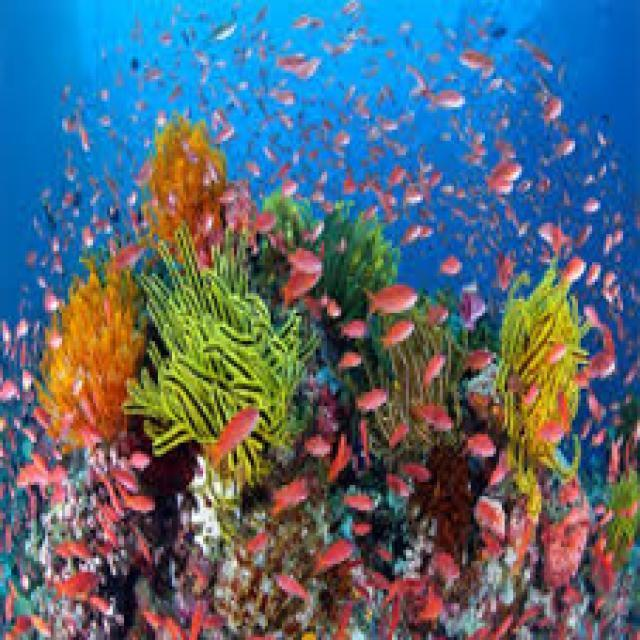Healthy: (150, 256, 299, 473), (39, 274, 137, 443), (502, 281, 580, 493), (145, 125, 229, 258), (325, 208, 398, 310), (420, 446, 480, 563), (604, 472, 640, 547), (150, 445, 195, 492)
